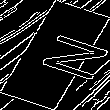N_NW: (13, 27, 97, 83)
